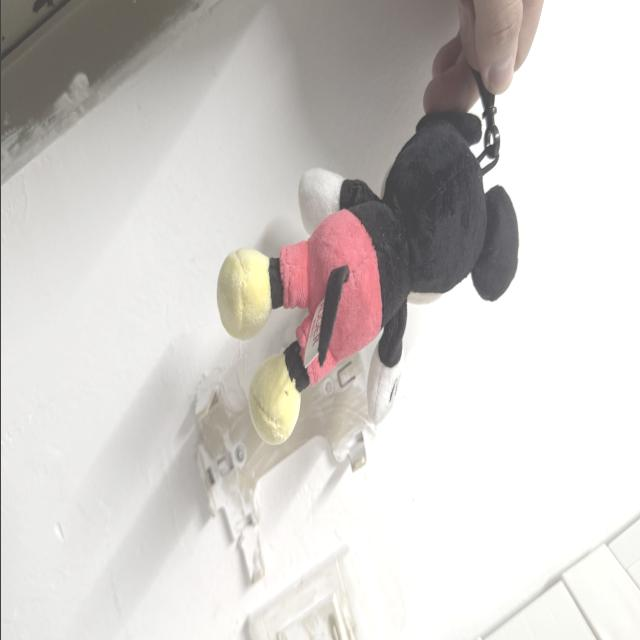mickey: (217, 114, 517, 443)
